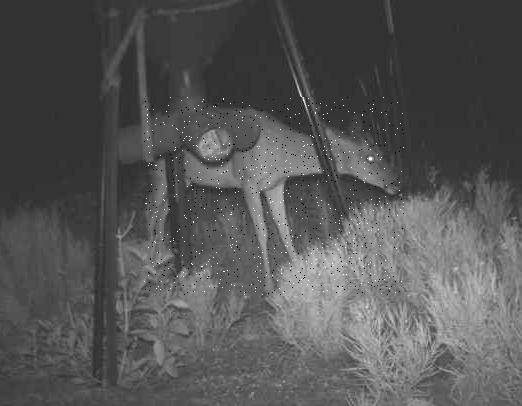Deer: (143, 98, 403, 296)
